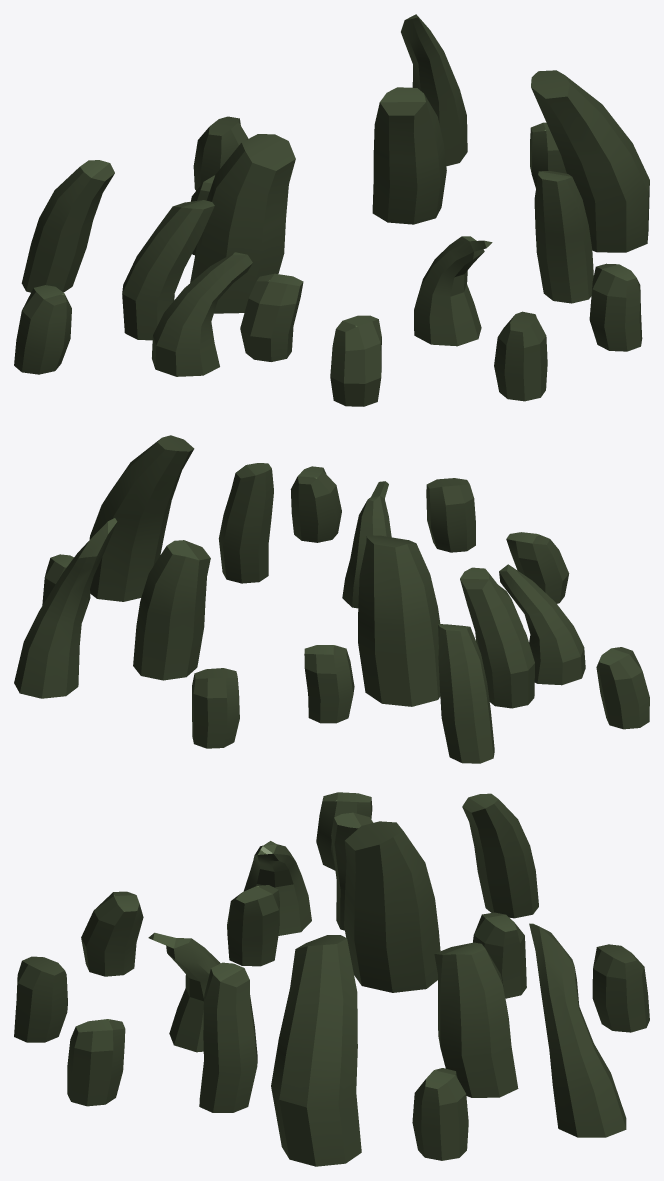
The model's file is EA_Swamp_Root_05c.glb.
The picture shows the model from 3 angles, top to bottom: view 1: azimuth 30°, elevation 25°; view 2: azimuth 150°, elevation 25°; view 3: azimuth 270°, elevation 25°; orthographic projection. The views are drawn at different scales.
Visible parts, largest first — view 1: EA_Swamp_Root_05c; view 2: EA_Swamp_Root_05c; view 3: EA_Swamp_Root_05c.
Part boxes in pixels (left/top/right/bottom): EA_Swamp_Root_05c: left=14, top=14, right=649, bottom=406; EA_Swamp_Root_05c: left=14, top=435, right=649, bottom=763; EA_Swamp_Root_05c: left=14, top=792, right=649, bottom=1166.
Bounding box in the file's own units: 4.12 × 1.12 × 3.54.
1 material, 1 textured.
